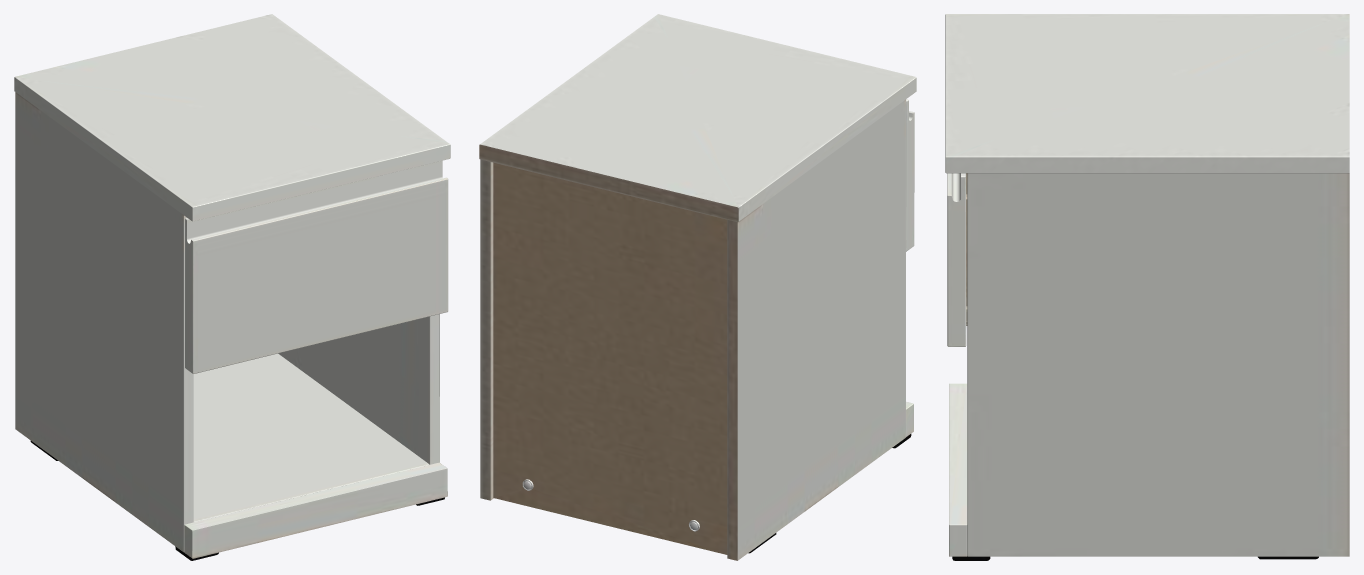
Rendered from storklinta_nightstand_white_with_1_drawe.glb.
3 views of the same model, side by side, from view 1: azimuth 30°, elevation 25°; view 2: azimuth 150°, elevation 25°; view 3: azimuth 270°, elevation 25° (orthographic). The views are drawn at different scales.
Parts seen in each view (by area): view 1: ASY_ART_30561155_S01_NV01, ASY_LPT01_30561155_S01_NV01; view 2: ASY_ART_30561155_S01_NV01, ASY_LPT01_30561155_S01_NV01; view 3: ASY_ART_30561155_S01_NV01, ASY_LPT01_30561155_S01_NV01.
Boxes of the visible parts, box(x1,y1,x2,y2) form: ASY_ART_30561155_S01_NV01: box(14, 14, 450, 560); ASY_LPT01_30561155_S01_NV01: box(185, 160, 448, 373); ASY_ART_30561155_S01_NV01: box(479, 14, 916, 560); ASY_LPT01_30561155_S01_NV01: box(906, 99, 914, 251); ASY_ART_30561155_S01_NV01: box(945, 14, 1349, 560); ASY_LPT01_30561155_S01_NV01: box(947, 173, 967, 346).
Size of the model in its own units: 0.3991 by 0.527 by 0.476.
Materials: 2 (2 with a texture image).
